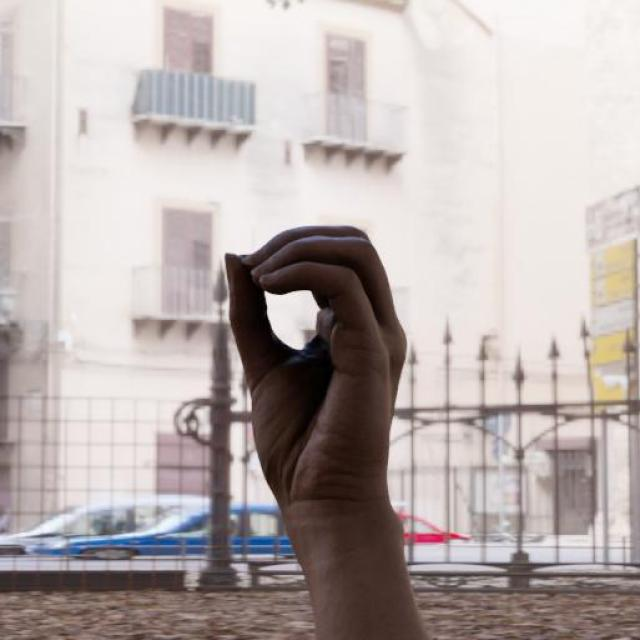O: (186, 202, 428, 552)
